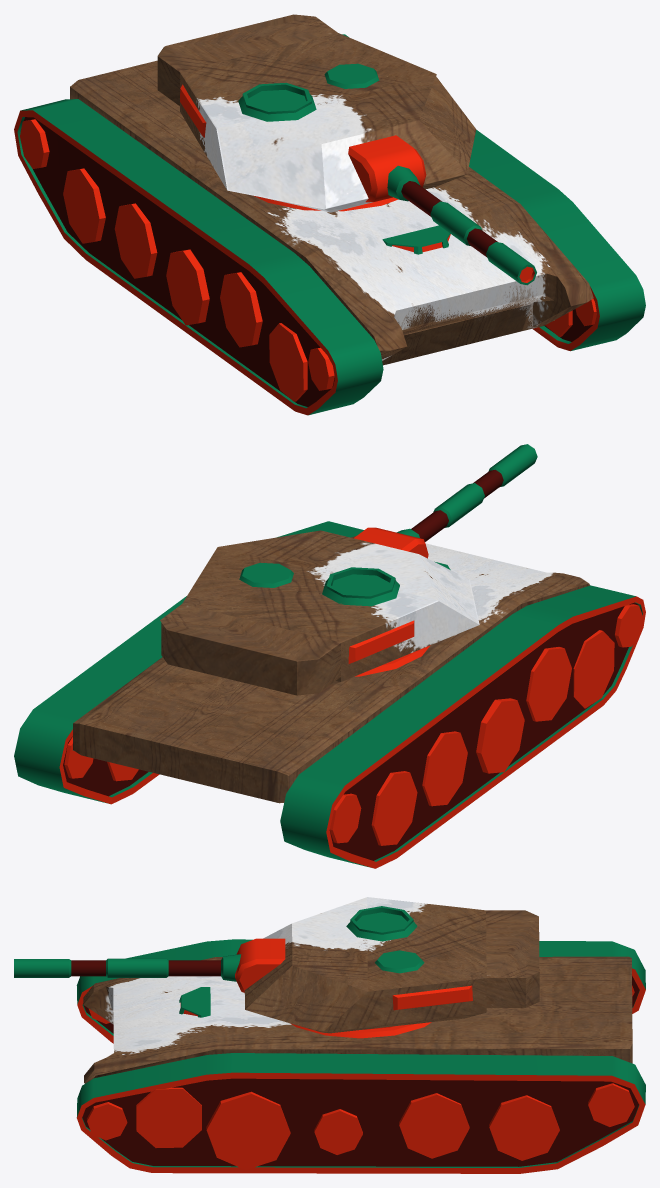
File: Tank_Art.fbx
The picture shows the model from 3 angles, top to bottom: view 1: azimuth 30°, elevation 25°; view 2: azimuth 150°, elevation 25°; view 3: azimuth 270°, elevation 25°; orthographic projection. The views are drawn at different scales.
Visible parts, largest first — view 1: Tank_Art; view 2: Tank_Art; view 3: Tank_Art.
Boxes of the visible parts, x1,y1,x2,y2 form: Tank_Art: (14, 14, 645, 415); Tank_Art: (14, 444, 645, 868); Tank_Art: (14, 897, 645, 1173).
Size of the model in its own units: 12.1 by 6.92 by 23.39.
